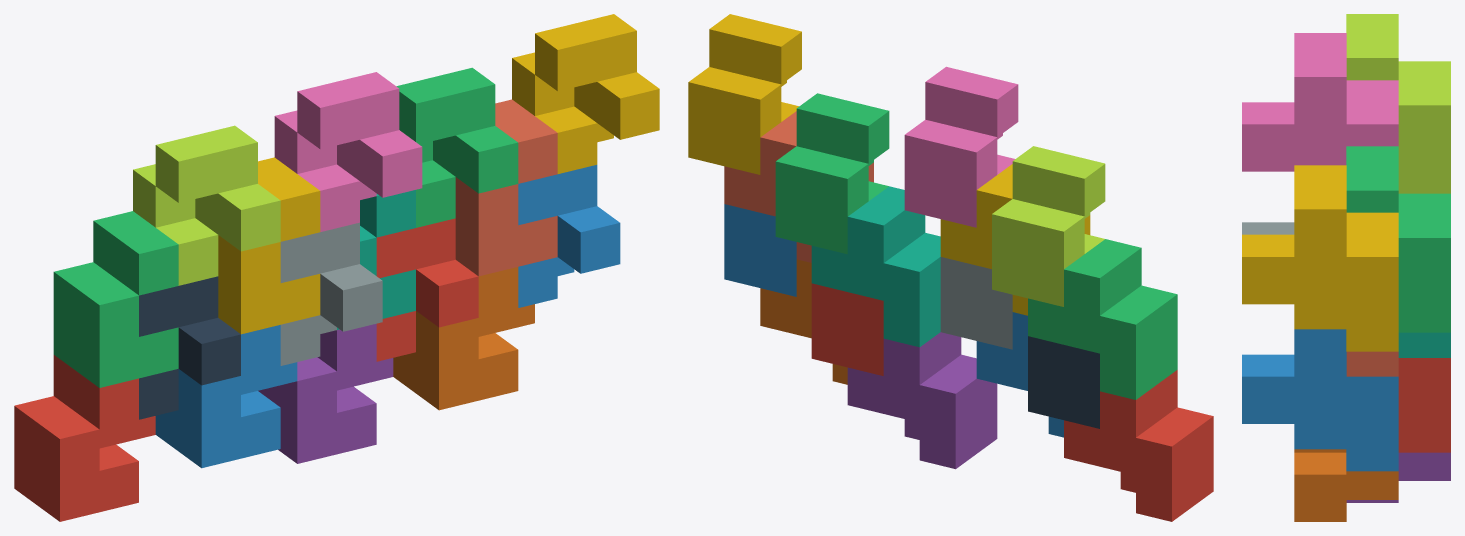
Rendered from tiling.obj.
3 views of the same model, side by side, from view 1: azimuth 30°, elevation 25°; view 2: azimuth 150°, elevation 25°; view 3: azimuth 270°, elevation 25° (orthographic). The views are drawn at different scales.
Visible parts, largest first — view 1: copy_1_domain_3, copy_1_domain_1, copy_2_domain_4, copy_2_domain_8, copy_2_domain_3, copy_2_domain_7, copy_1_domain_6, copy_1_domain_2, copy_1_domain_5, copy_1_domain_8, copy_1_domain_4, copy_2_domain_6 (+4 smaller); view 2: copy_1_domain_3, copy_1_domain_1, copy_2_domain_7, copy_2_domain_4, copy_2_domain_8, copy_2_domain_3, copy_1_domain_5, copy_1_domain_7, copy_2_domain_5, copy_2_domain_1, copy_2_domain_2, copy_2_domain_6 (+4 smaller); view 3: copy_2_domain_8, copy_2_domain_6, copy_2_domain_4, copy_2_domain_7, copy_2_domain_3, copy_1_domain_6, copy_2_domain_5, copy_1_domain_5, copy_1_domain_7, copy_1_domain_8, copy_2_domain_2.
Boxes of the visible parts, x1,y1,x2,y2 form: copy_1_domain_3: (53, 211, 178, 387); copy_1_domain_1: (14, 355, 155, 521); copy_2_domain_4: (274, 72, 422, 231); copy_2_domain_8: (512, 14, 659, 173); copy_2_domain_3: (133, 125, 280, 285); copy_2_domain_7: (396, 67, 518, 227); copy_1_domain_6: (393, 267, 534, 410); copy_1_domain_2: (155, 325, 297, 468); copy_1_domain_5: (258, 323, 393, 463); copy_1_domain_8: (455, 99, 557, 276); copy_1_domain_4: (218, 157, 320, 334); copy_2_domain_6: (518, 165, 620, 307); copy_1_domain_3: (1028, 239, 1177, 399); copy_1_domain_1: (1064, 370, 1213, 521); copy_2_domain_7: (775, 93, 889, 254); copy_2_domain_4: (904, 66, 1018, 227); copy_2_domain_8: (688, 14, 801, 174); copy_2_domain_3: (992, 146, 1105, 306); copy_1_domain_5: (847, 332, 997, 469); copy_1_domain_7: (811, 186, 940, 347); copy_2_domain_5: (811, 283, 883, 375); copy_2_domain_1: (1028, 336, 1099, 428); copy_2_domain_2: (940, 257, 1012, 349); copy_2_domain_6: (724, 204, 796, 296); copy_2_domain_8: (1242, 165, 1398, 351); copy_2_domain_6: (1242, 329, 1398, 471); copy_2_domain_4: (1242, 33, 1398, 171); copy_2_domain_7: (1346, 146, 1450, 332); copy_2_domain_3: (1346, 14, 1450, 193); copy_1_domain_6: (1294, 449, 1398, 521); copy_2_domain_5: (1398, 358, 1450, 452); copy_1_domain_5: (1346, 452, 1450, 502); copy_1_domain_7: (1398, 332, 1450, 357); copy_1_domain_8: (1346, 351, 1398, 376); copy_2_domain_2: (1242, 222, 1294, 234).
Bounding box in the file's own units: 14 × 9 × 4.
